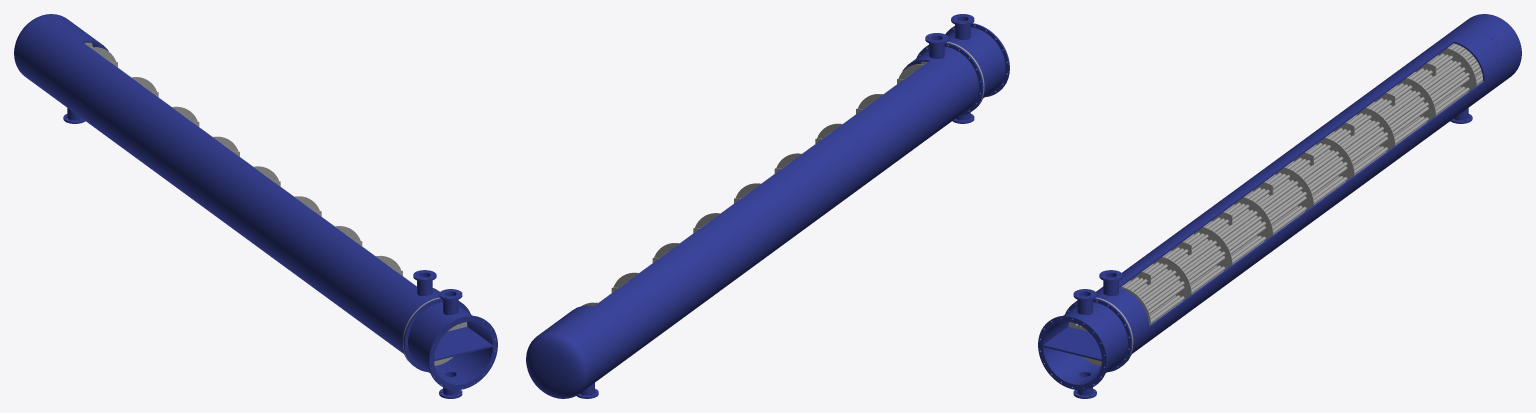
The model's file is Intercambiador de calor de tubo y coraza v6.fbx.
3 renders of one model, left to right at view 1: azimuth 30°, elevation 25°; view 2: azimuth 150°, elevation 25°; view 3: azimuth 330°, elevation 25°, orthographic.
Visible parts, largest first — view 1: Coraza, Body1, Cabezal Redondo, Body3; view 2: Coraza, Cabezal Redondo, Body1, Body3; view 3: Coraza, Body1 (×9), Cabezal Redondo, Body102, Body84, Body121, Body157, Body83, Body105, Body85, Body122, Body101 (+6 smaller).
Boxes of the visible parts, box(x1,y1,x2,y2) form: Coraza: box(32, 26, 439, 361); Body1: box(403, 298, 497, 390); Cabezal Redondo: box(14, 14, 82, 87); Body3: box(439, 289, 462, 314); Coraza: box(555, 33, 983, 398); Cabezal Redondo: box(526, 319, 605, 398); Body1: box(945, 23, 1009, 108); Body3: box(951, 14, 974, 39); Coraza: box(1096, 26, 1503, 361); Body1 (×9): box(1038, 48, 1476, 390); Cabezal Redondo: box(1453, 14, 1521, 87); Body102: box(1147, 64, 1480, 310); Body84: box(1143, 58, 1476, 304); Body121: box(1139, 53, 1472, 298); Body157: box(1151, 76, 1483, 322); Body83: box(1148, 68, 1481, 313); Body105: box(1131, 47, 1465, 291); Body85: box(1137, 51, 1470, 295); Body122: box(1145, 61, 1478, 306); Body101: box(1142, 56, 1474, 301).
Bounding box in the file's own units: 51.82 × 72 × 554.
